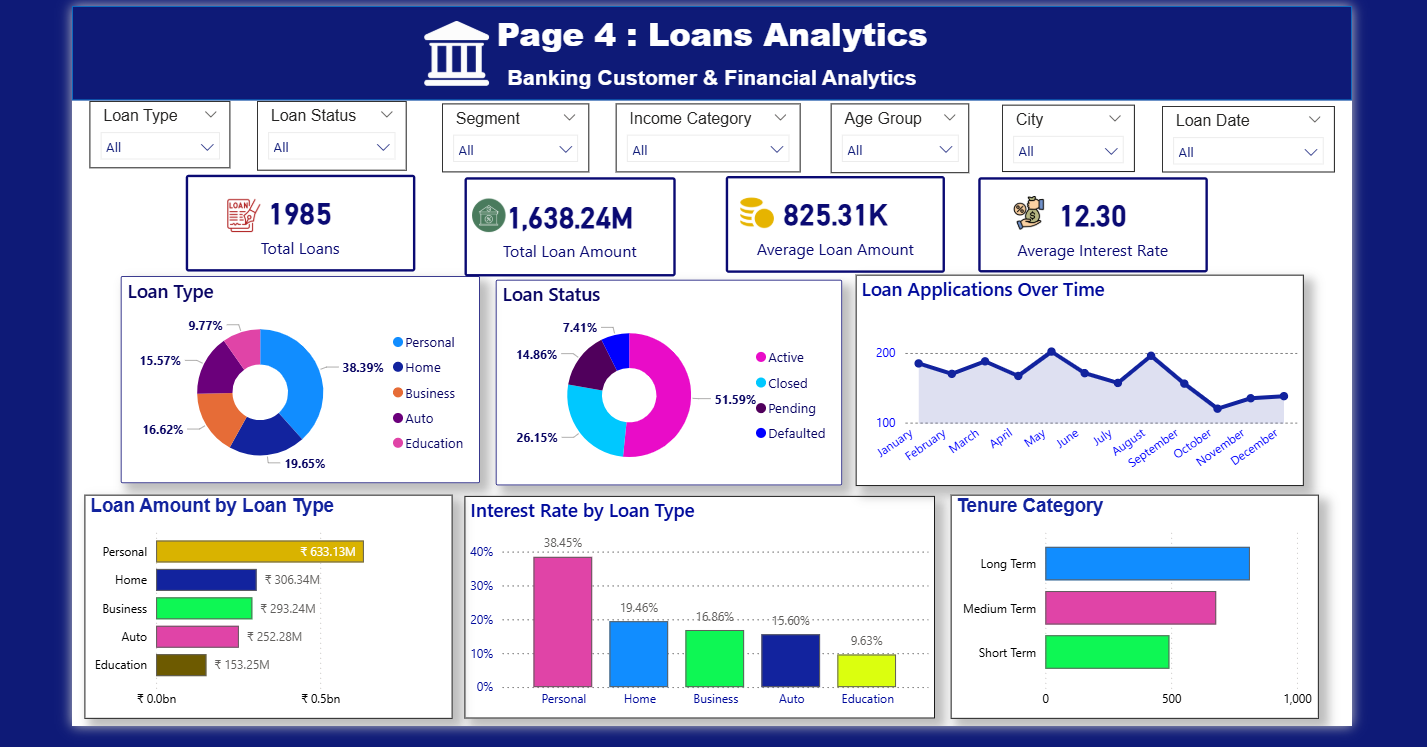

This screenshot's page, from the dashboard's own definition file:
{"tool":"powerbi","page":{"name":"Loans Analytics","canvas":[1280,720],"ordinal":3},"visuals":[{"type":"shape","box":[0,0,1280,94.4],"z":0},{"type":"textbox","box":[0,0,1280.3,55],"z":1000},{"type":"textbox","box":[0,55,1280.3,40.4],"z":2000},{"type":"image","box":[336.6,15.5,97.2,64.8],"z":3000},{"type":"slicer","title":"Month","fields":{"Values":["customers_cleaned.city"]},"box":[930.2,98.9,132.7,67.6],"z":4000},{"type":"slicer","title":"Month","fields":{"Values":["loans_cleaned.loan_type"]},"box":[16.9,95.3,141.2,67.6],"z":5000},{"type":"slicer","title":"Month","fields":{"Values":["customers_cleaned.age_group"]},"box":[758.9,97.7,138.7,70],"z":6000},{"type":"slicer","title":"Month","fields":{"Values":["loans_cleaned.loan_status"]},"box":[184.6,95.3,149.6,70],"z":7000},{"type":"slicer","title":"Month","fields":{"Values":["customers_cleaned.customer_segment"]},"box":[370.4,97.7,147.2,68.8],"z":8000},{"type":"card","fields":{"Values":["loans_cleaned.Total Loans"]},"box":[113.6,168.9,229.2,96.5],"z":9000},{"type":"card","fields":{"Values":["loans_cleaned.Average Interest Rate"]},"box":[906.2,171.3,229.2,95.3],"z":10000},{"type":"card","fields":{"Values":["loans_cleaned.Average Loan Amount"]},"box":[654.1,170.1,219.6,96.5],"z":11000},{"type":"image","box":[667.2,190.6,35,33.8],"z":12000},{"type":"donutChart","title":"Loan Type","fields":{"Category":["loans_cleaned.loan_type"],"Y":["CountNonNull(loans_cleaned.loan_id)"]},"box":[48.3,270.2,359.5,207.5],"z":13000},{"type":"donutChart","title":"Loan Status","fields":{"Category":["loans_cleaned.loan_status"],"Y":["CountNonNull(loans_cleaned.loan_id)"]},"box":[423.5,274.1,346.5,205.6],"z":14000},{"type":"columnChart","title":"Interest Rate by Loan Type","fields":{"Y":["Sum(loans_cleaned.interest_rate)"],"Category":["loans_cleaned.loan_type"]},"box":[393,490.1,470.4,222.5],"z":15000},{"type":"slicer","title":"Month","fields":{"Values":["customers_cleaned.income_category"]},"box":[544.1,97.7,184.6,68.8],"z":16000},{"type":"slicer","title":"Month","fields":{"Values":["loans_cleaned.application_date.Variation.Date Hierarchy.Year"]},"box":[1090.6,100.1,172.5,66.4],"z":17000},{"type":"clusteredBarChart","title":"Loan Amount by Loan Type","fields":{"Y":["Sum(loans_cleaned.loan_amount)"],"Category":["loans_cleaned.loan_type"]},"box":[12.7,488.7,367.6,223.9],"z":18000},{"type":"lineChart","title":"Loan Applications Over Time","fields":{"Category":["loans_cleaned.application_date.Variation.Date Hierarchy.Month"],"Y":["CountNonNull(loans_cleaned.loan_id)"]},"box":[784.1,268.4,447.9,211.3],"z":19000},{"type":"clusteredBarChart","title":"Tenure Category","fields":{"Category":["loans_cleaned.Tensure Category"],"Y":["CountNonNull(loans_cleaned.loan_id)"]},"box":[878.9,488.7,367.6,223.9],"z":20000},{"type":"card","fields":{"Values":["loans_cleaned.Total Loans"]},"box":[392.5,171.3,211.1,98.9],"z":21000},{"type":"image","box":[400.5,193,33.8,33.8],"z":22000},{"type":"image","box":[154.4,193,33.8,33.8],"z":23000},{"type":"image","box":[939.8,190.6,33.8,33.8],"z":24000}]}

Visuals, with their boxes on the page's 1280x720 design canvas (x1, y1, x2, y2). These are canvas units, not pixel positions in the 1427x747 screenshot, which may show the page scaled, cropped or inside an application window:
shape: [left=0, top=0, right=1280, bottom=94]
textbox: [left=0, top=0, right=1280, bottom=55]
textbox: [left=0, top=55, right=1280, bottom=95]
image: [left=337, top=16, right=434, bottom=80]
"Month" slicer: [left=930, top=99, right=1063, bottom=166]
"Month" slicer: [left=17, top=95, right=158, bottom=163]
"Month" slicer: [left=759, top=98, right=898, bottom=168]
"Month" slicer: [left=185, top=95, right=334, bottom=165]
"Month" slicer: [left=370, top=98, right=518, bottom=166]
card - loans_cleaned.Total Loans: [left=114, top=169, right=343, bottom=265]
card - loans_cleaned.Average Interest Rate: [left=906, top=171, right=1135, bottom=267]
card - loans_cleaned.Average Loan Amount: [left=654, top=170, right=874, bottom=267]
image: [left=667, top=191, right=702, bottom=224]
"Loan Type" donutChart: [left=48, top=270, right=408, bottom=478]
"Loan Status" donutChart: [left=424, top=274, right=770, bottom=480]
"Interest Rate by Loan Type" columnChart: [left=393, top=490, right=863, bottom=713]
"Month" slicer: [left=544, top=98, right=729, bottom=166]
"Month" slicer: [left=1091, top=100, right=1263, bottom=166]
"Loan Amount by Loan Type" clusteredBarChart: [left=13, top=489, right=380, bottom=713]
"Loan Applications Over Time" lineChart: [left=784, top=268, right=1232, bottom=480]
"Tenure Category" clusteredBarChart: [left=879, top=489, right=1246, bottom=713]
card - loans_cleaned.Total Loans: [left=392, top=171, right=604, bottom=270]
image: [left=400, top=193, right=434, bottom=227]
image: [left=154, top=193, right=188, bottom=227]
image: [left=940, top=191, right=974, bottom=224]
